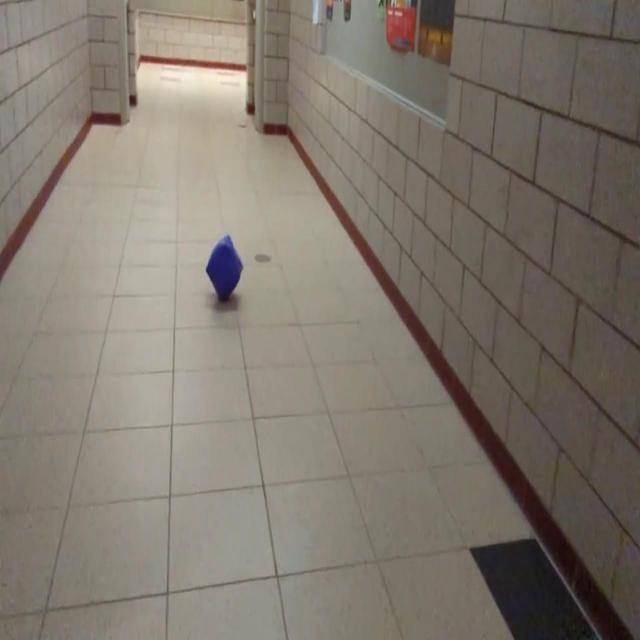frc_cube: (204, 238, 242, 302)
